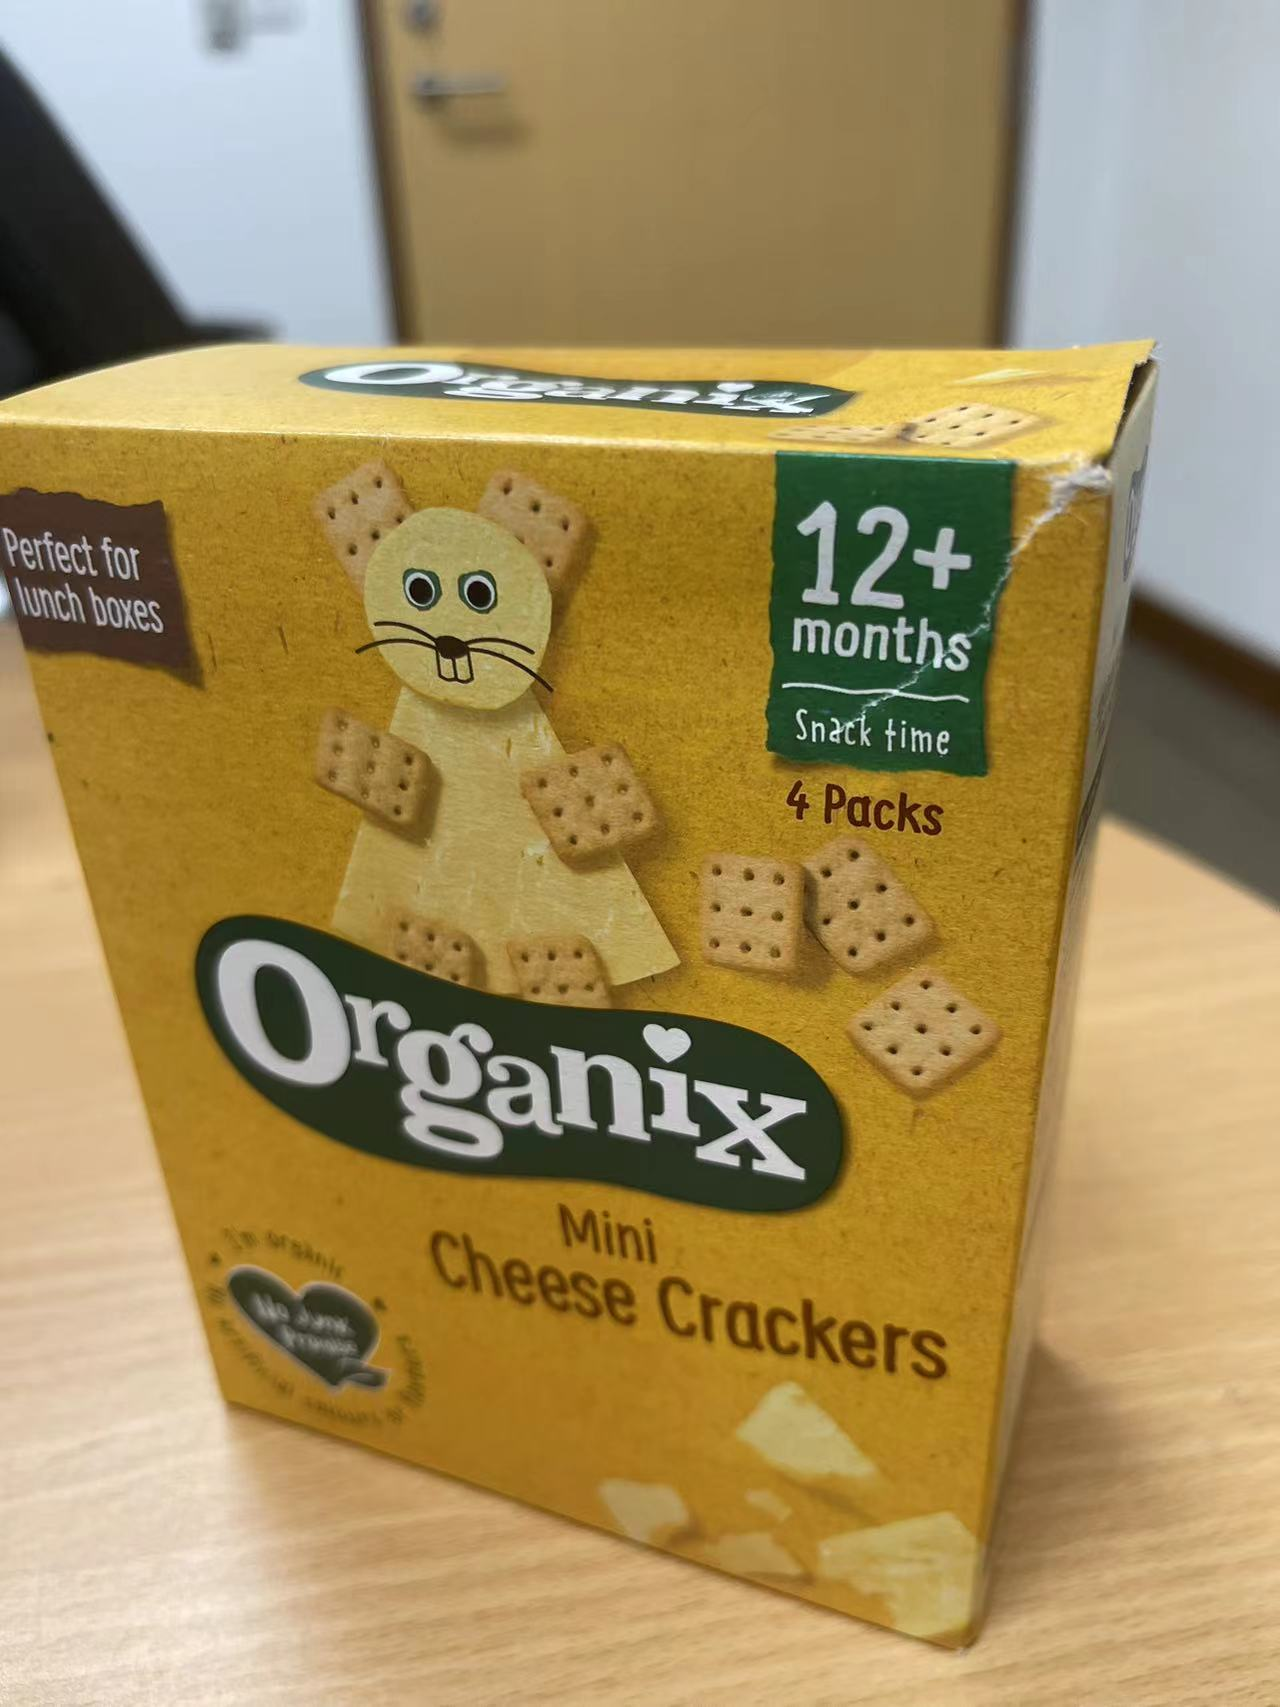Crackers_1-99g_NonHalal_NonHealthy: (4, 340, 1150, 1665)
